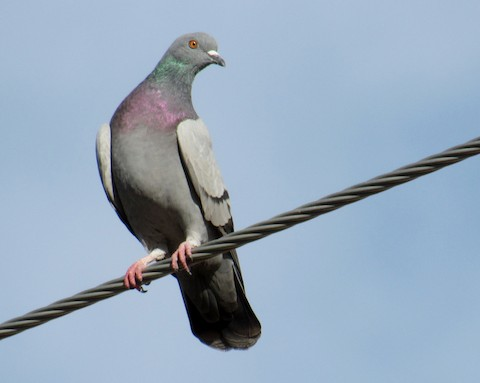pigeon: (86, 29, 272, 354)
